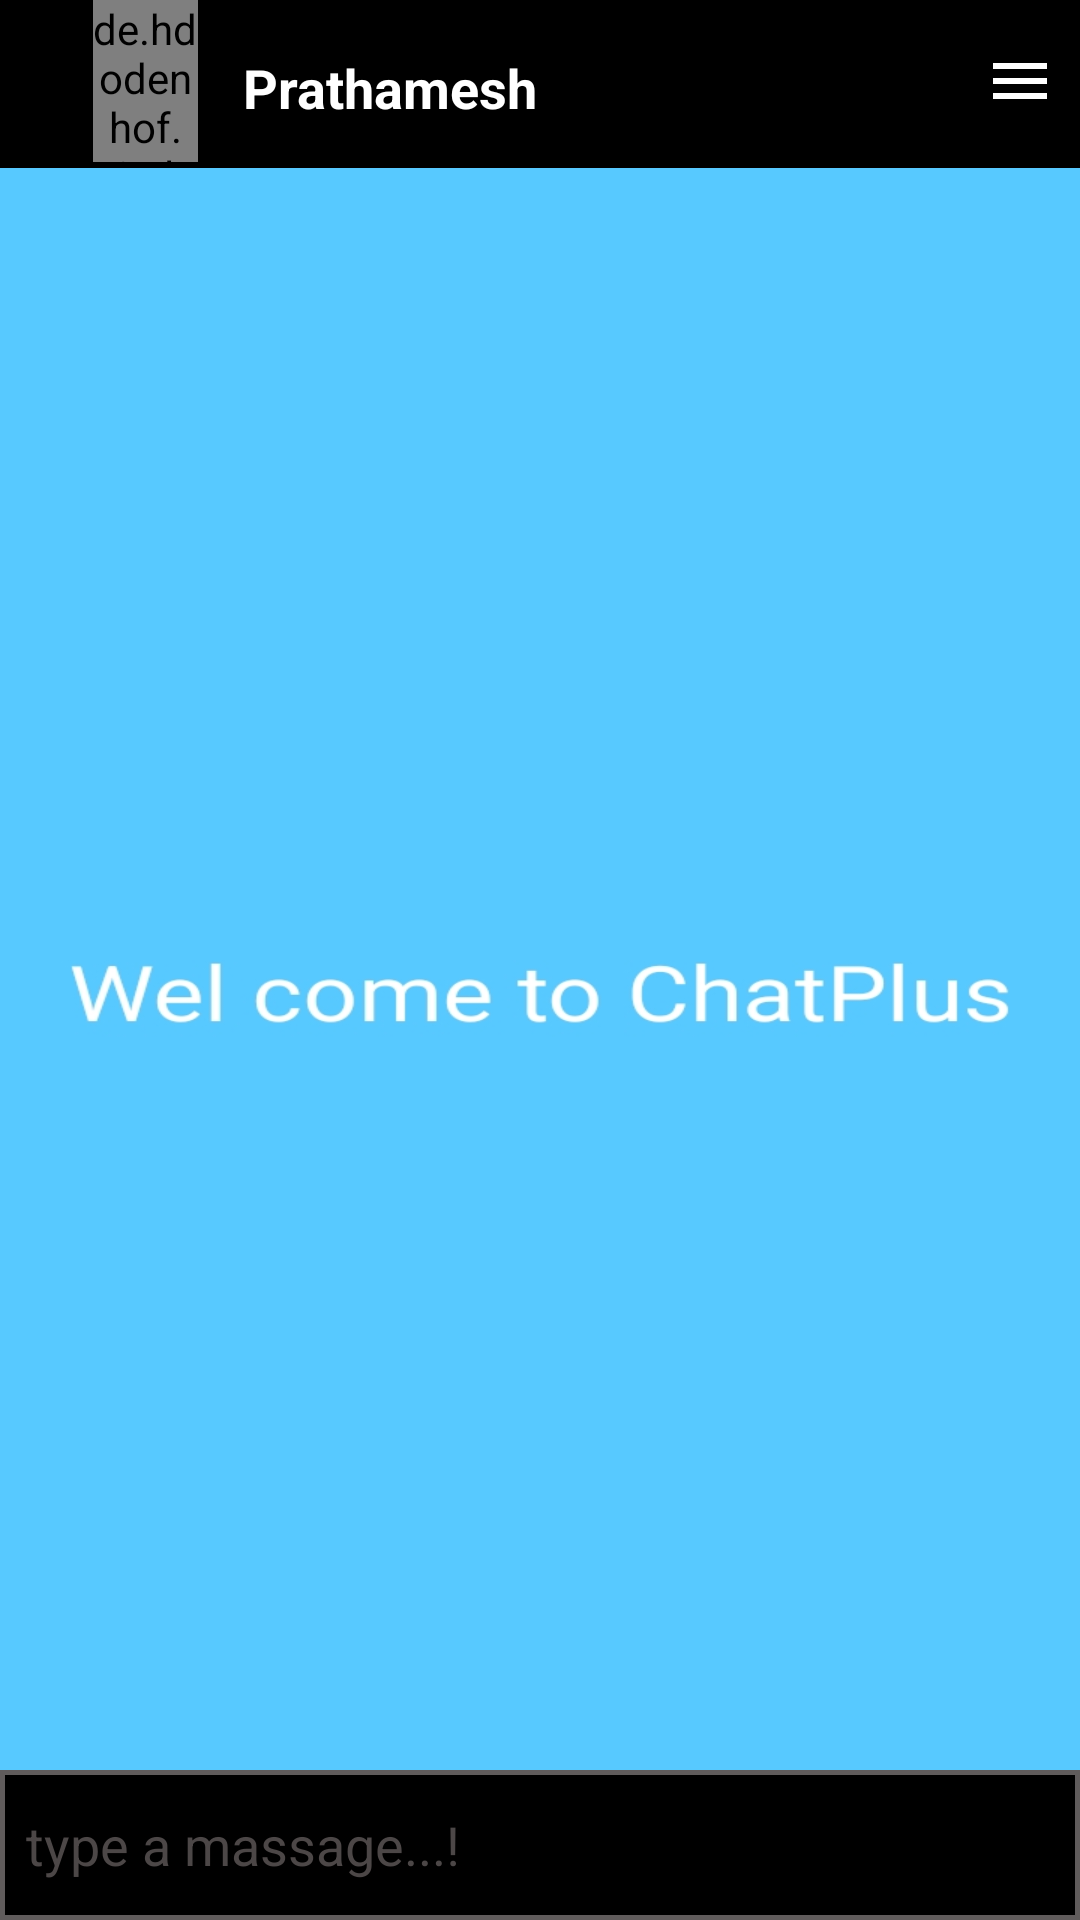

Screen size 1080w x 1920h. Icon name, then its box in pixels as (x1, y1, x2, y2):
menu: (993, 63, 1047, 99)
